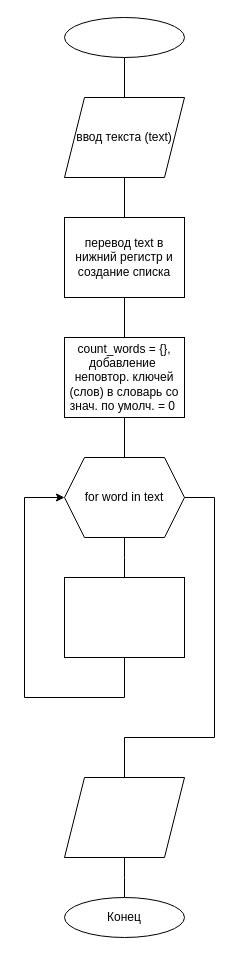
The diagram is 233 pixels wide and 955 high, and some of its shapes have lost their labels. The shapes that lost their labels are listed below. From the top down, each one's centre as x and y in pixels, then its label:
[124,37]: Начало
[124,617]: нахождение слова (ключа) в словаре и прибавка единицы к сумме
[124,817]: вывод 5 самых частых слов
